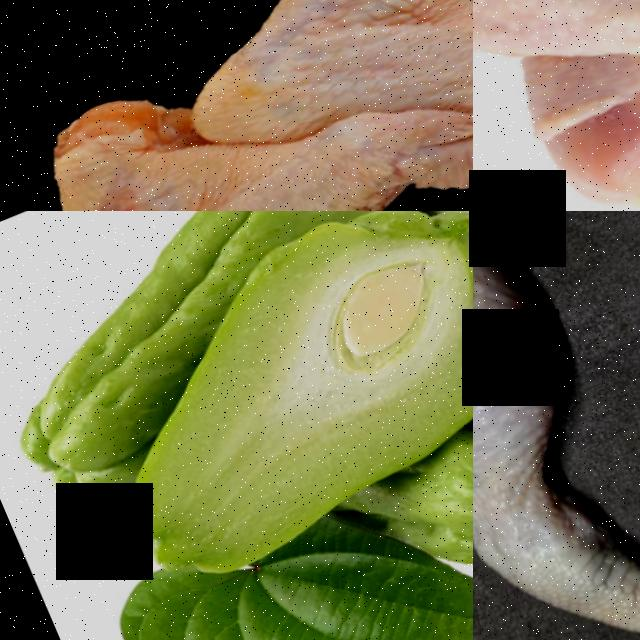chayote: (62, 211, 473, 602), (0, 240, 244, 506)
chicken thigh: (473, 211, 640, 640), (473, 0, 640, 211)
chicken wing: (62, 0, 473, 211), (130, 0, 473, 211)
